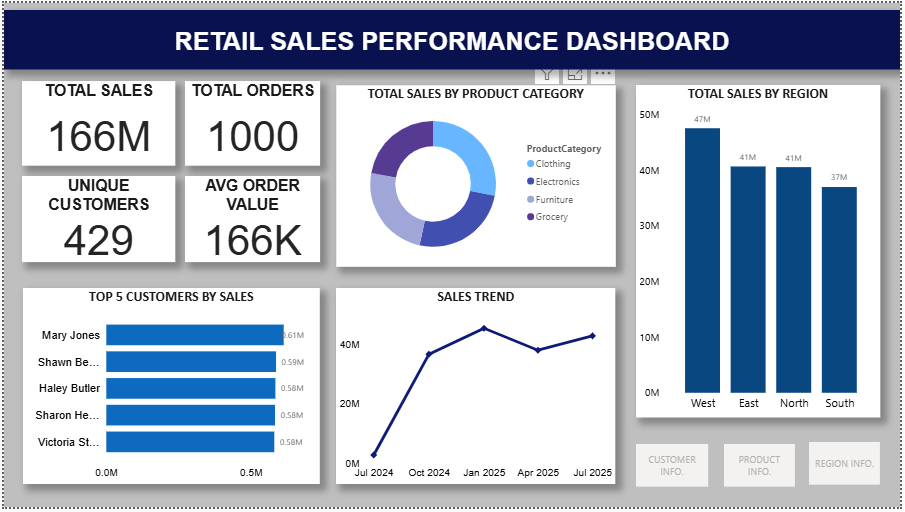

What the dashboard file says about the page in this screenshot:
{"tool":"powerbi","page":{"name":"Summary","canvas":[1280,720],"ordinal":0},"visuals":[{"type":"card","title":"TOTAL SALES","fields":{"Values":["Table1.TOTAL SALES"]},"box":[26.2,111.3,219.3,121.1],"z":0},{"type":"card","title":"TOTAL ORDERS","fields":{"Values":["Table1.TOTAL ORDERS"]},"box":[258.6,111.3,193.1,121.1],"z":1000},{"type":"card","title":"UNIQUE CUSTOMERS ","fields":{"Values":["Table1.UNIQUE CUSTOMERS"]},"box":[26.2,247.2,219.3,122.8],"z":2000},{"type":"card","title":"AVG ORDER VALUE","fields":{"Values":["Table1.AVG ORDER VALUE"]},"box":[258.6,247.2,193.1,122.8],"z":3000},{"type":"donutChart","title":" TOTAL SALES BY PRODUCT CATEGORY","fields":{"Y":["Table1.TotalSales"],"Category":["Table1.ProductCategory"]},"box":[474.7,117.9,399.4,258.6],"z":4000},{"type":"lineChart","title":" SALES TREND","fields":{"Y":["Table1.TotalSales"],"Category":["Table1.OrderDate.Variation.Date Hierarchy.Year","Table1.OrderDate.Variation.Date Hierarchy.Quarter","Table1.OrderDate.Variation.Date Hierarchy.Month","Table1.OrderDate.Variation.Date Hierarchy.Day"]},"box":[474.7,407.6,399.4,279.9],"z":5000},{"type":"clusteredColumnChart","title":" TOTAL SALES BY REGION","fields":{"Y":["Table1.TotalSales"],"Category":["Table1.Region"]},"box":[903.5,117.9,348.6,474.7],"z":6000},{"type":"clusteredBarChart","title":"TOP 5 CUSTOMERS BY SALES","fields":{"Category":["Table1.CustomerName"],"Y":["Table1.TotalSales"]},"box":[27.8,407.6,423.9,279.9],"z":7000},{"type":"card","fields":{"Values":["Table1.TITLE"]},"box":[0,9.8,1280,85.1],"z":8000},{"type":"actionButton","box":[1027.9,630.2,101.5,60.6],"z":9000},{"type":"actionButton","box":[903.5,630.2,103.1,60.6],"z":10000},{"type":"actionButton","box":[1150.7,626.9,101.5,60.6],"z":11000}]}

Visuals, with their boxes in screenshot pixels (x1, y1, x2, y2), scaled from the page's 1280x720 canvas onto the 905x512 screenshot:
"TOTAL SALES" card: left=19, top=79, right=174, bottom=165
"TOTAL ORDERS" card: left=183, top=79, right=319, bottom=165
"UNIQUE CUSTOMERS " card: left=19, top=176, right=174, bottom=263
"AVG ORDER VALUE" card: left=183, top=176, right=319, bottom=263
" TOTAL SALES BY PRODUCT CATEGORY" donutChart: left=336, top=84, right=618, bottom=268
" SALES TREND" lineChart: left=336, top=290, right=618, bottom=489
" TOTAL SALES BY REGION" clusteredColumnChart: left=639, top=84, right=885, bottom=421
"TOP 5 CUSTOMERS BY SALES" clusteredBarChart: left=20, top=290, right=319, bottom=489
card - Table1.TITLE: left=0, top=7, right=904, bottom=67
actionButton: left=727, top=448, right=799, bottom=491
actionButton: left=639, top=448, right=712, bottom=491
actionButton: left=814, top=446, right=885, bottom=489
